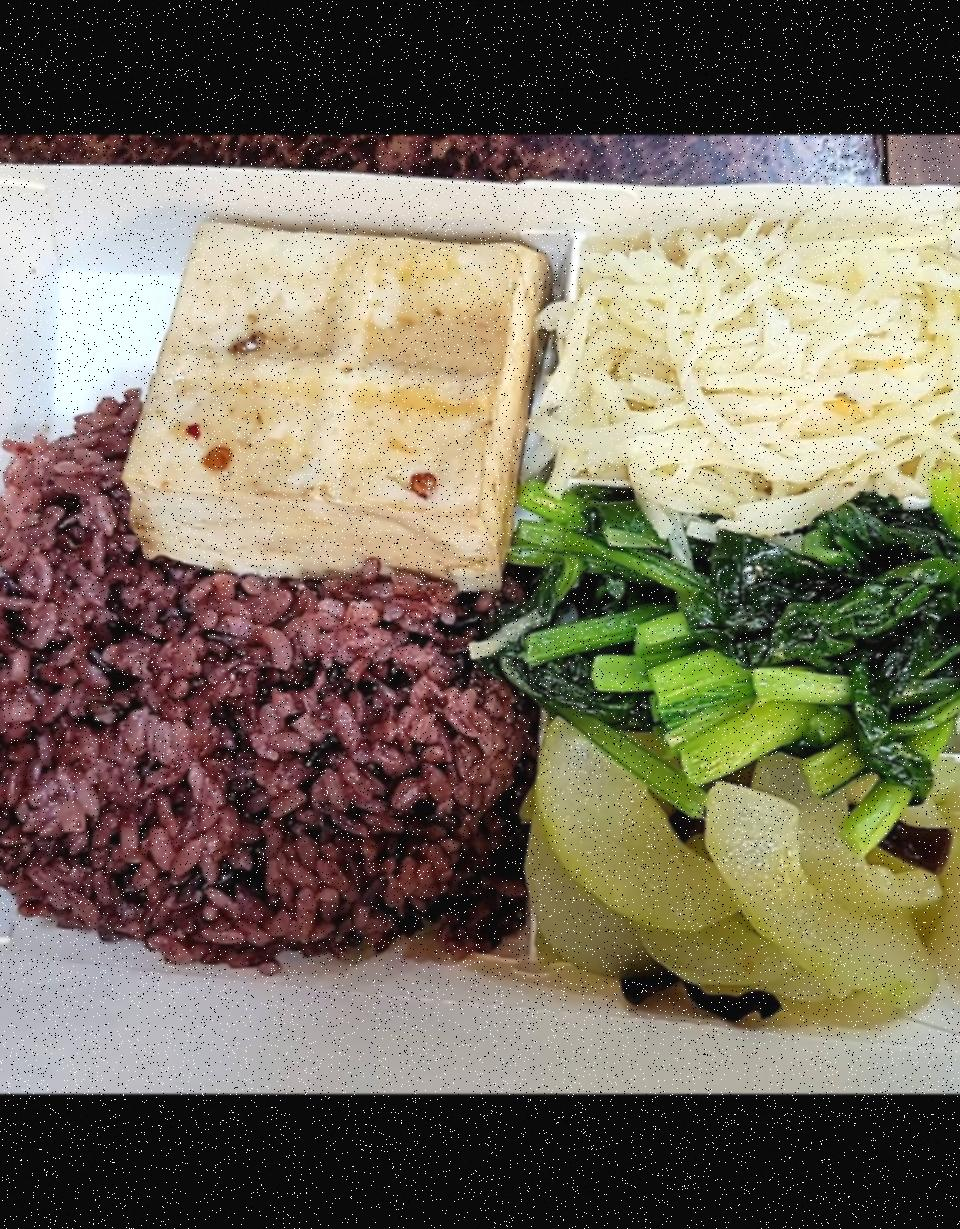box: (0, 142, 960, 1077)
purple rice: (0, 400, 528, 973)
side dish: (104, 202, 544, 596), (506, 720, 960, 1034), (513, 488, 960, 755), (561, 230, 960, 522)
